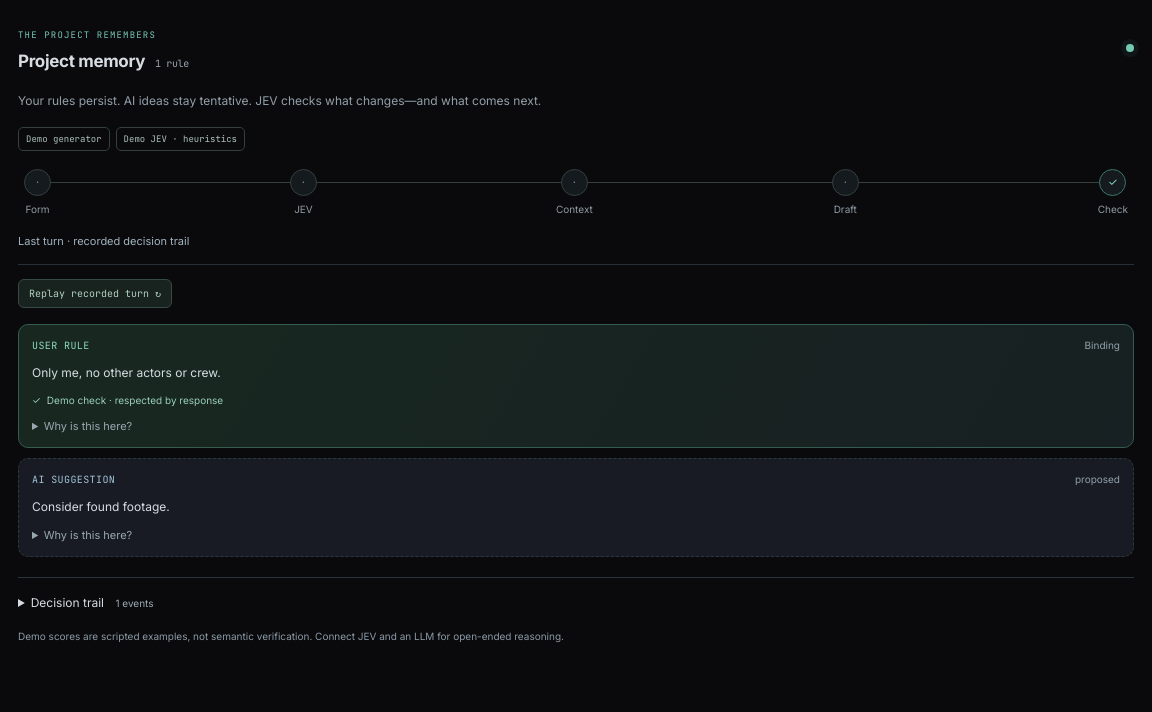
Test: shows user rules, tentative AI ideas, their provenance, and actual JEV usage
The image size is (1152, 712).
Expected: the text "Binding" is shown, x1=1084 y1=338 x2=1120 y2=353
Expected: the text "AI suggestion" is shown, x1=32 y1=473 x2=115 y2=486
Click the heading "Why is this here?" below "Demo check".
click(88, 426)  # box x1=44 y1=419 x2=132 y2=433
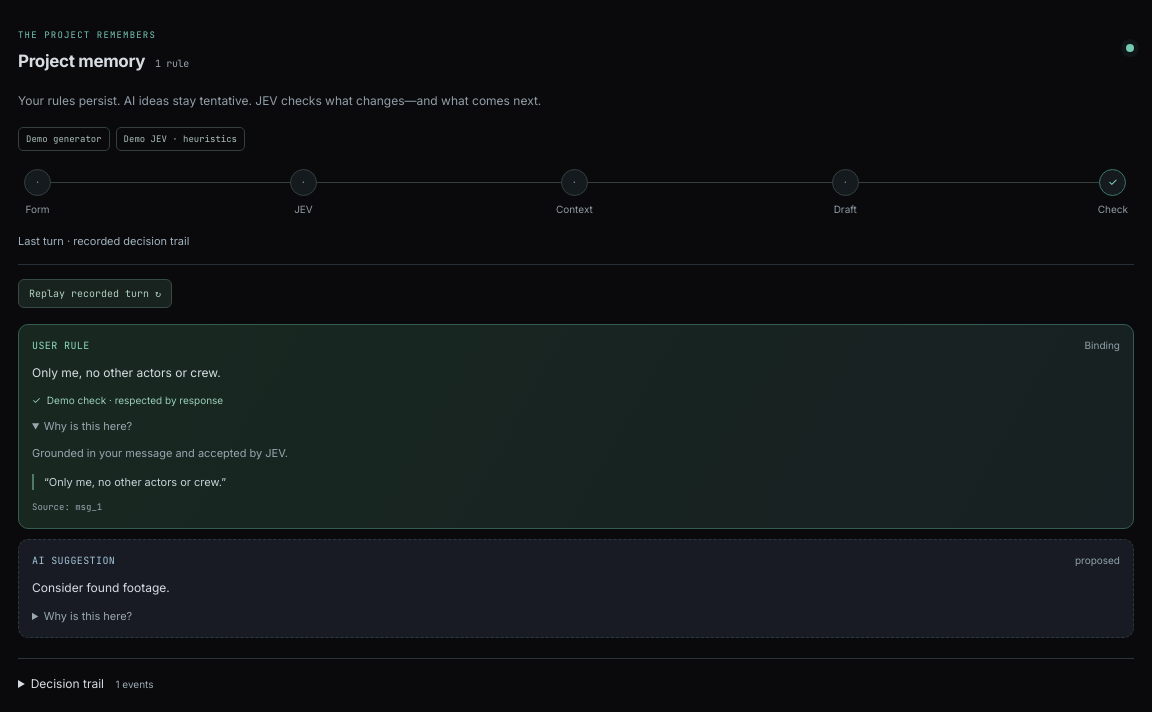
Expected: the text "“Only me, no other actors or crew.”" is shown, x1=32 y1=474 x2=1120 y2=490
Expected: the text "Source: msg_1" is shown, x1=32 y1=501 x2=102 y2=513
